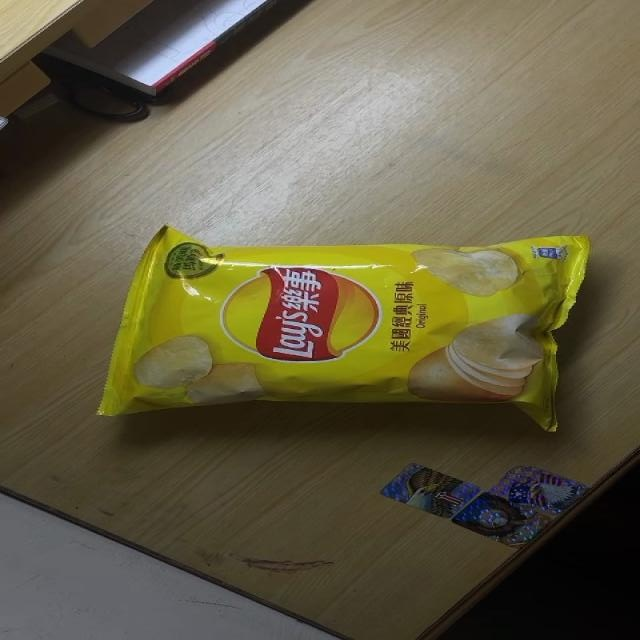Lay-s-original: (94, 224, 596, 431)
